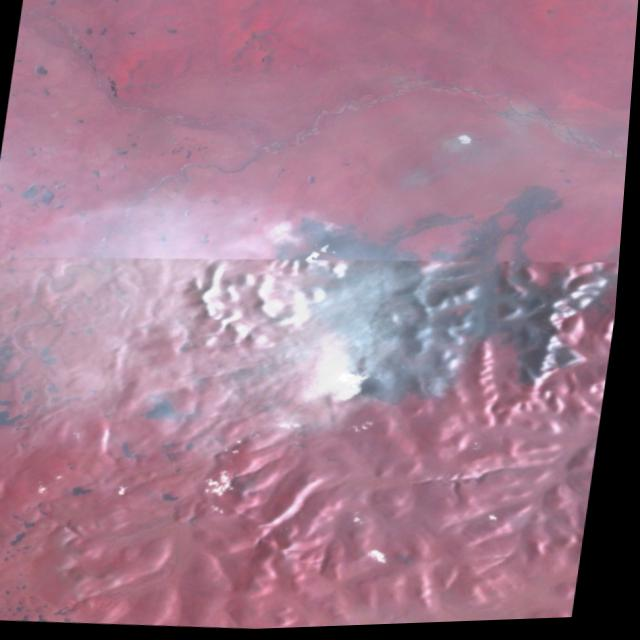fire: (338, 340, 492, 426), (248, 208, 358, 326), (406, 257, 461, 289)
